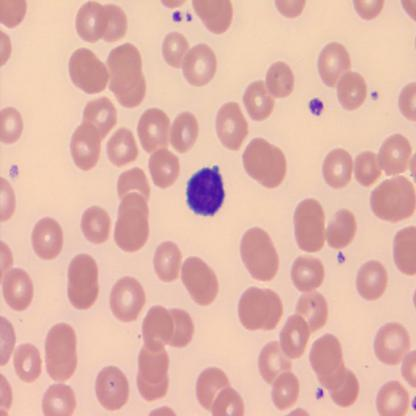Lymphocyte: (184, 164, 226, 216)
